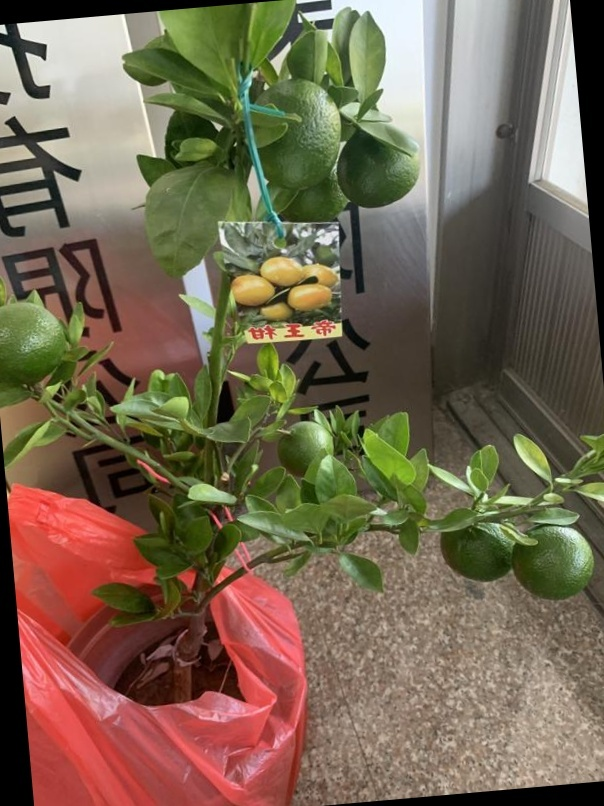Tangerine: (253, 82, 343, 191), (336, 128, 423, 211), (514, 521, 596, 604), (435, 513, 517, 583), (0, 300, 68, 381), (281, 414, 338, 476)
